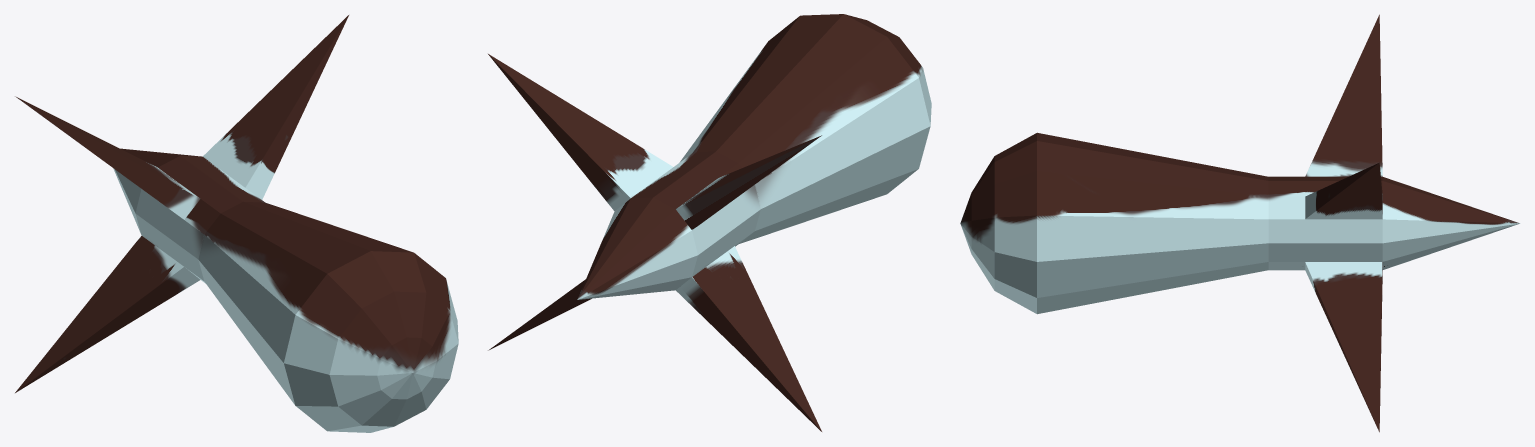
The model's file is ReaperTail.glb.
3 renders of one model, left to right at view 1: azimuth 30°, elevation 25°; view 2: azimuth 150°, elevation 25°; view 3: azimuth 270°, elevation 25°, orthographic. The views are drawn at different scales.
Visible parts, largest first — view 1: ReaperTail; view 2: ReaperTail; view 3: ReaperTail.
Part boxes in pixels (x1,y1,x2,y2): ReaperTail: (15,15,458,432); ReaperTail: (488,14,931,431); ReaperTail: (960,14,1520,432).
Size of the model in its own units: 6.95 by 5.9 by 11.07.
Materials: 1 (1 with a texture image).
